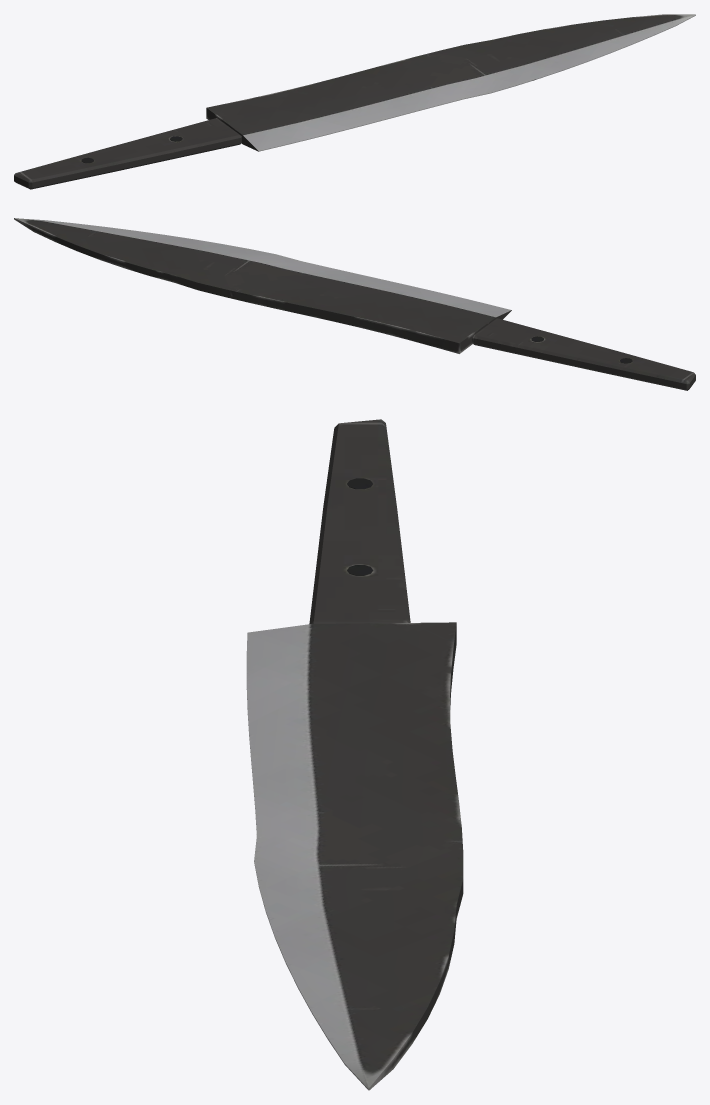
The model's file is lamina_forjada.glb.
The picture shows the model from 3 angles, top to bottom: view 1: azimuth 30°, elevation 25°; view 2: azimuth 150°, elevation 25°; view 3: azimuth 270°, elevation 25°; orthographic projection. The views are drawn at different scales.
Visible parts, largest first — view 1: lamina, espiga; view 2: lamina, espiga; view 3: lamina, espiga.
Part boxes in pixels (bbox=[...]): lamina: bbox=[206, 14, 695, 151]; espiga: bbox=[14, 118, 241, 189]; lamina: bbox=[14, 218, 511, 353]; espiga: bbox=[472, 318, 695, 390]; lamina: bbox=[246, 622, 463, 1090]; espiga: bbox=[309, 419, 410, 624].
Size of the model in its own units: 0.2758 by 0.0042 by 0.0382.
Materials: 1 (1 with a texture image).
